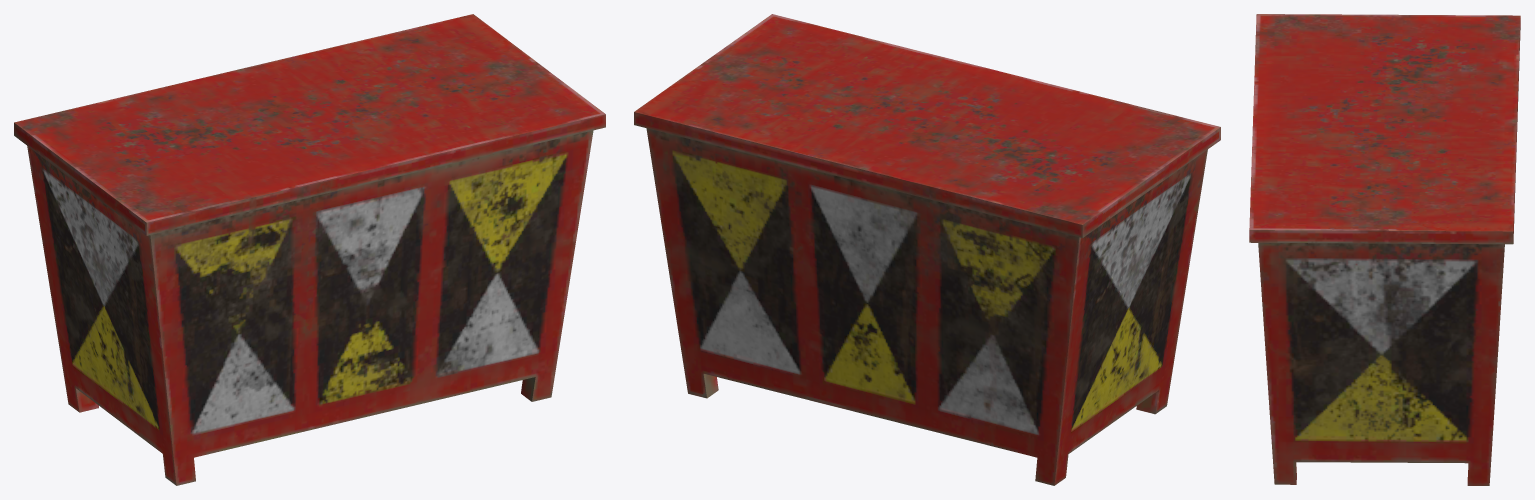
Rendered from Circus stuff shelf 3.fbx.
3 renders of one model, left to right at view 1: azimuth 30°, elevation 25°; view 2: azimuth 150°, elevation 25°; view 3: azimuth 270°, elevation 25°, orthographic. The views are drawn at different scales.
Parts seen in each view (by area): view 1: polySurface3127, polySurface12636, polySurface3113, polySurface35155, polySurface51866; view 2: polySurface3131, polySurface12636, polySurface3113, polySurface26279, polySurface51866; view 3: polySurface12636, polySurface3114, polySurface33566.
Boxes of the visible parts, box(x1,y1,x2,y2) form: polySurface3127: box(150, 130, 593, 485); polySurface12636: box(14, 14, 605, 222); polySurface3113: box(27, 146, 176, 485); polySurface35155: box(146, 114, 605, 235); polySurface51866: box(14, 123, 146, 235); polySurface3131: box(646, 128, 1079, 485); polySurface12636: box(634, 14, 1220, 224); polySurface3113: box(1054, 149, 1207, 485); polySurface26279: box(634, 112, 1082, 237); polySurface51866: box(1082, 127, 1220, 237); polySurface12636: box(1249, 14, 1520, 231); polySurface3114: box(1258, 243, 1504, 485); polySurface33566: box(1249, 230, 1513, 244).
Bounding box in the file's own units: 110 × 64.67 × 57.91.
